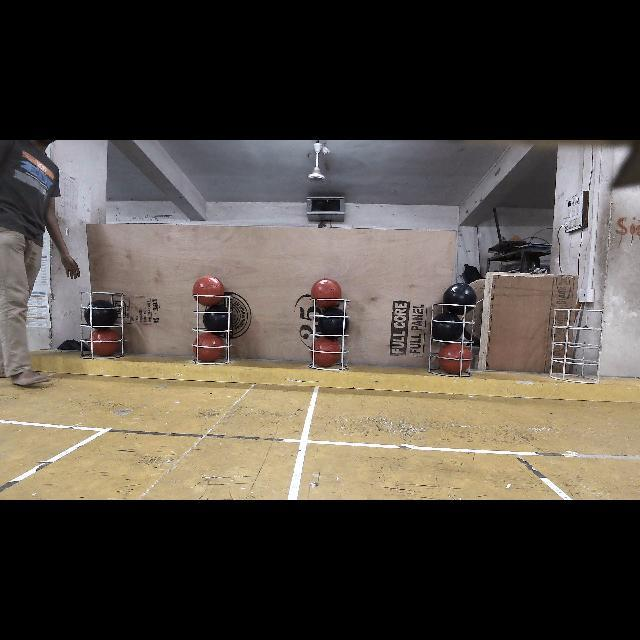P: (442, 282, 476, 315), (84, 300, 118, 328), (318, 308, 349, 338), (432, 312, 462, 342), (203, 306, 231, 334)
R: (438, 342, 472, 374), (309, 336, 341, 368), (192, 275, 224, 306), (193, 332, 225, 362), (311, 279, 341, 309), (88, 329, 120, 356)
S: (552, 306, 602, 386), (79, 288, 127, 360), (432, 301, 476, 379), (308, 297, 352, 371), (192, 294, 232, 364)
